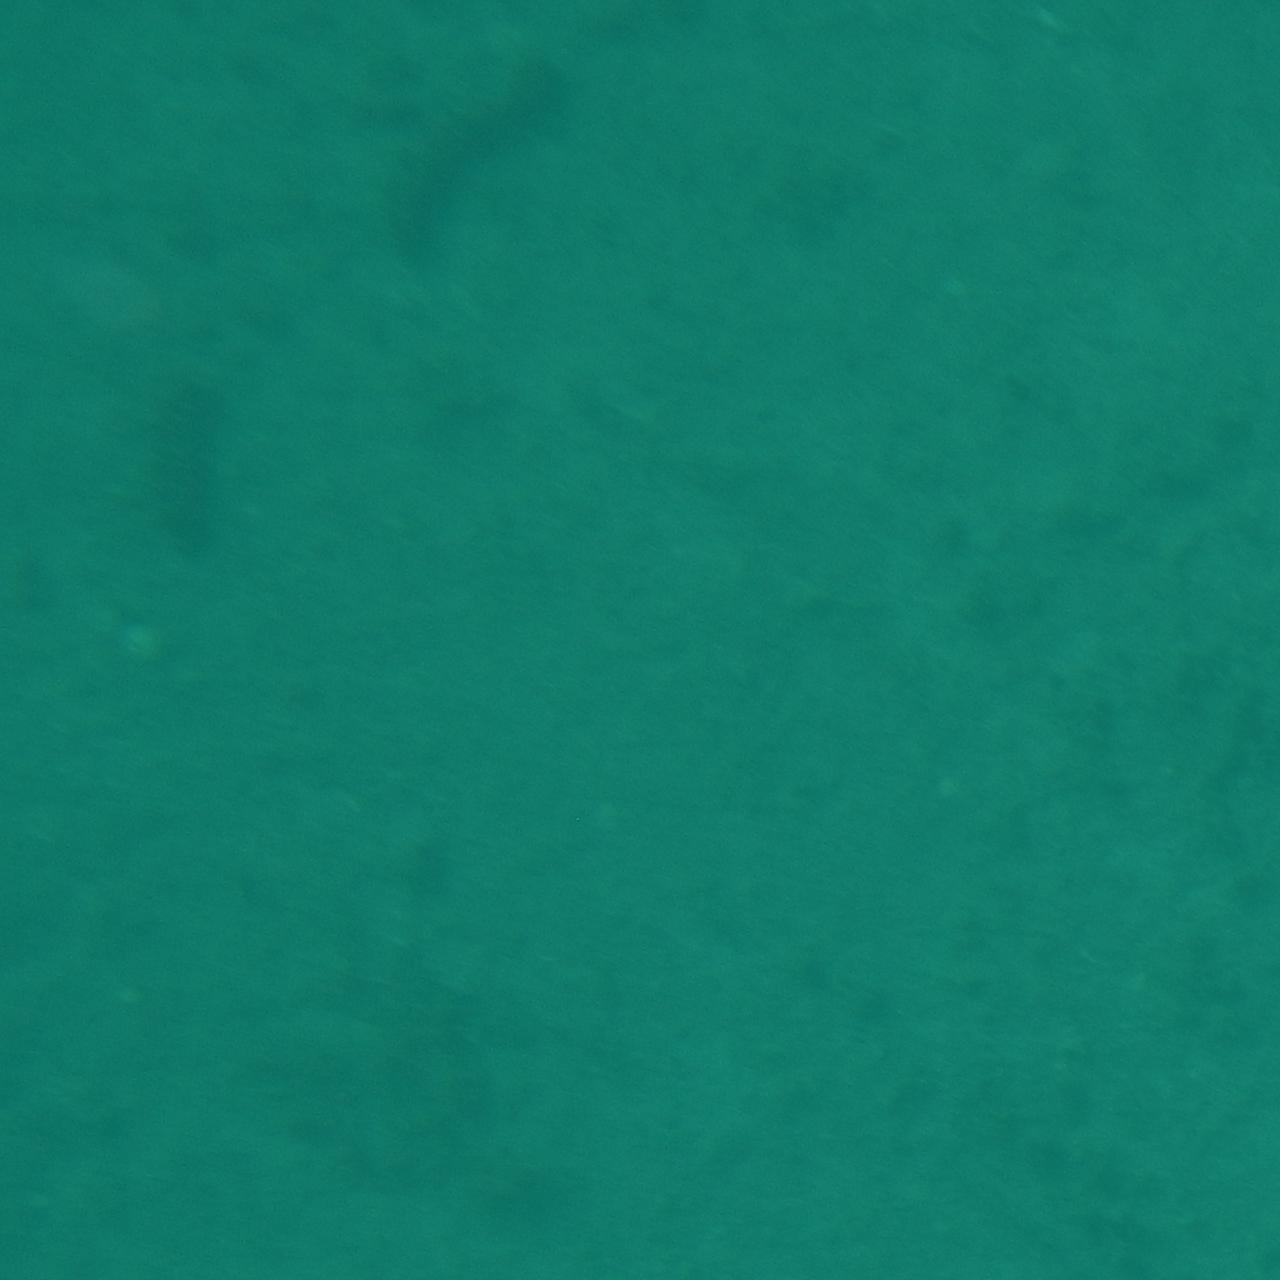Holothuria tubulosa: (380, 53, 583, 279), (137, 377, 240, 576)
